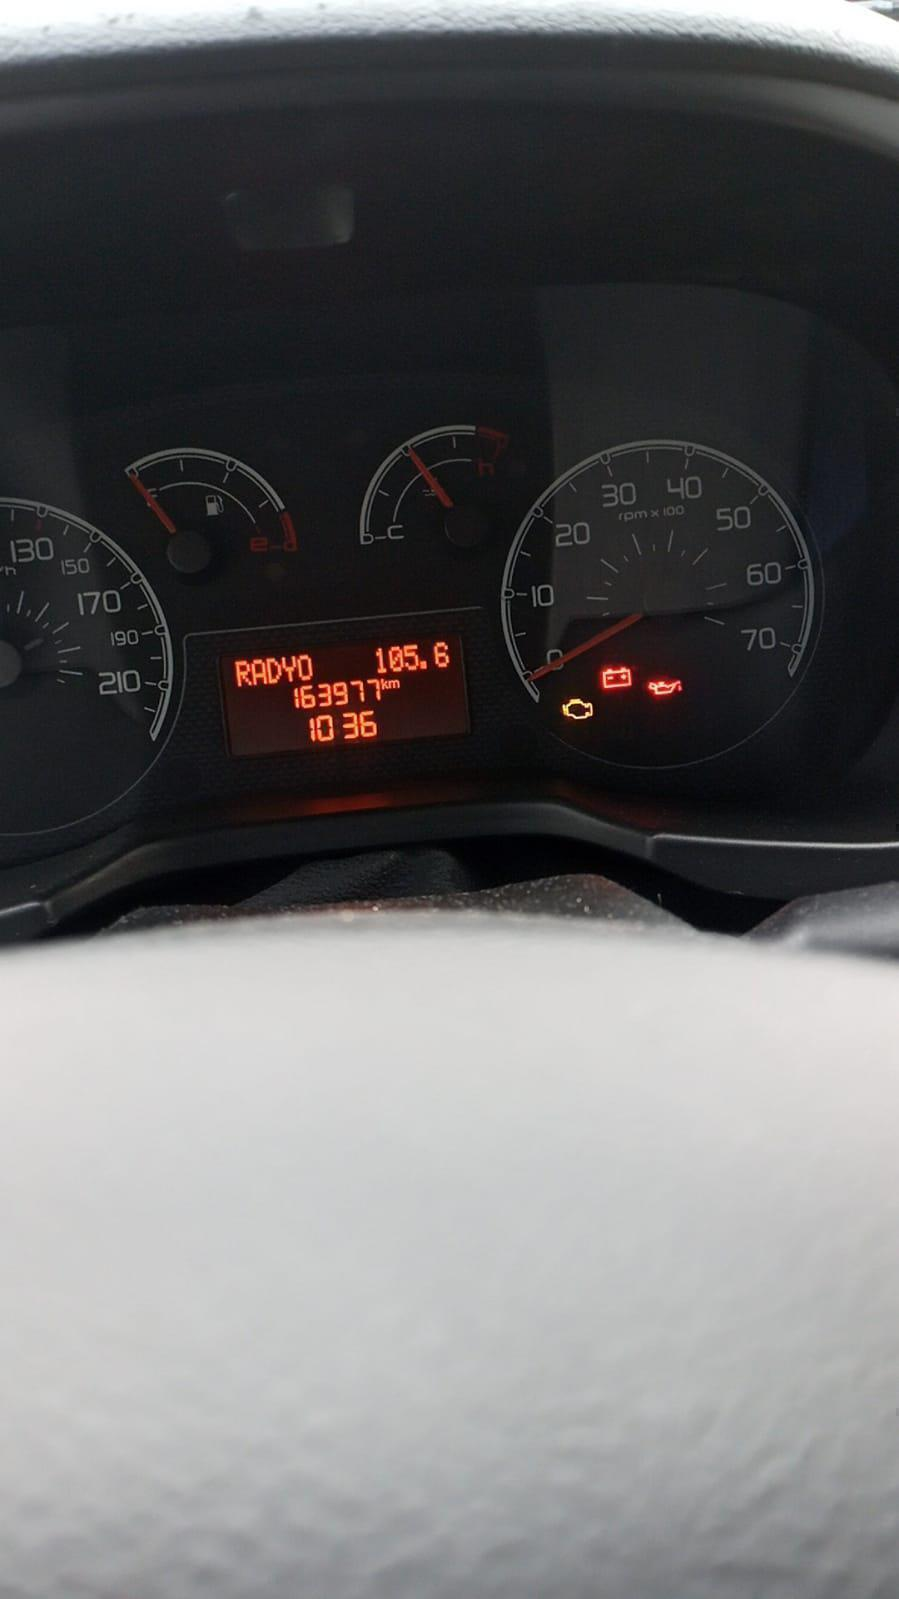,: (419, 660, 427, 669)
0: (316, 714, 334, 742), (387, 645, 404, 672)
1: (375, 646, 386, 674), (308, 716, 315, 743), (292, 687, 300, 709)
3: (341, 711, 359, 739), (317, 682, 331, 707)
5: (403, 644, 418, 670)
6: (359, 709, 377, 738), (299, 684, 316, 709), (432, 641, 449, 667)
7: (350, 679, 366, 703), (366, 678, 381, 701)
9: (331, 681, 349, 706)
X: (234, 660, 252, 687), (265, 656, 282, 684), (296, 655, 313, 681), (281, 655, 296, 682), (251, 658, 267, 685), (387, 678, 400, 687), (380, 677, 387, 690)
odometer: (215, 628, 477, 763)
